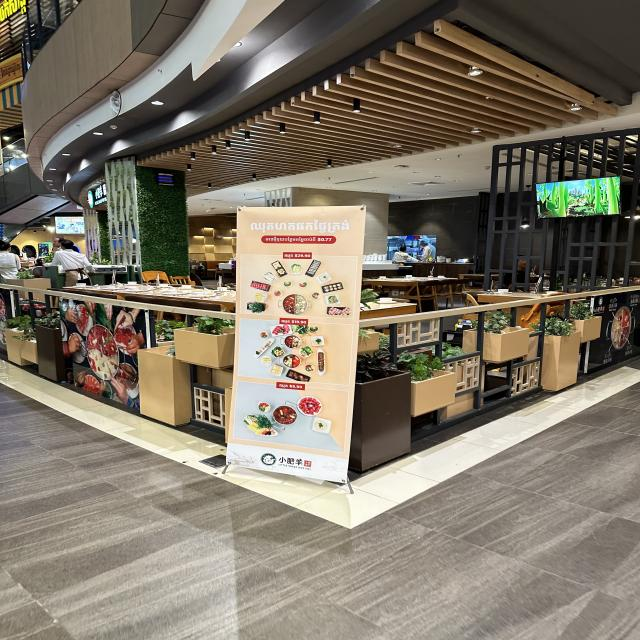Yolov11kh: (245, 218, 353, 236)
